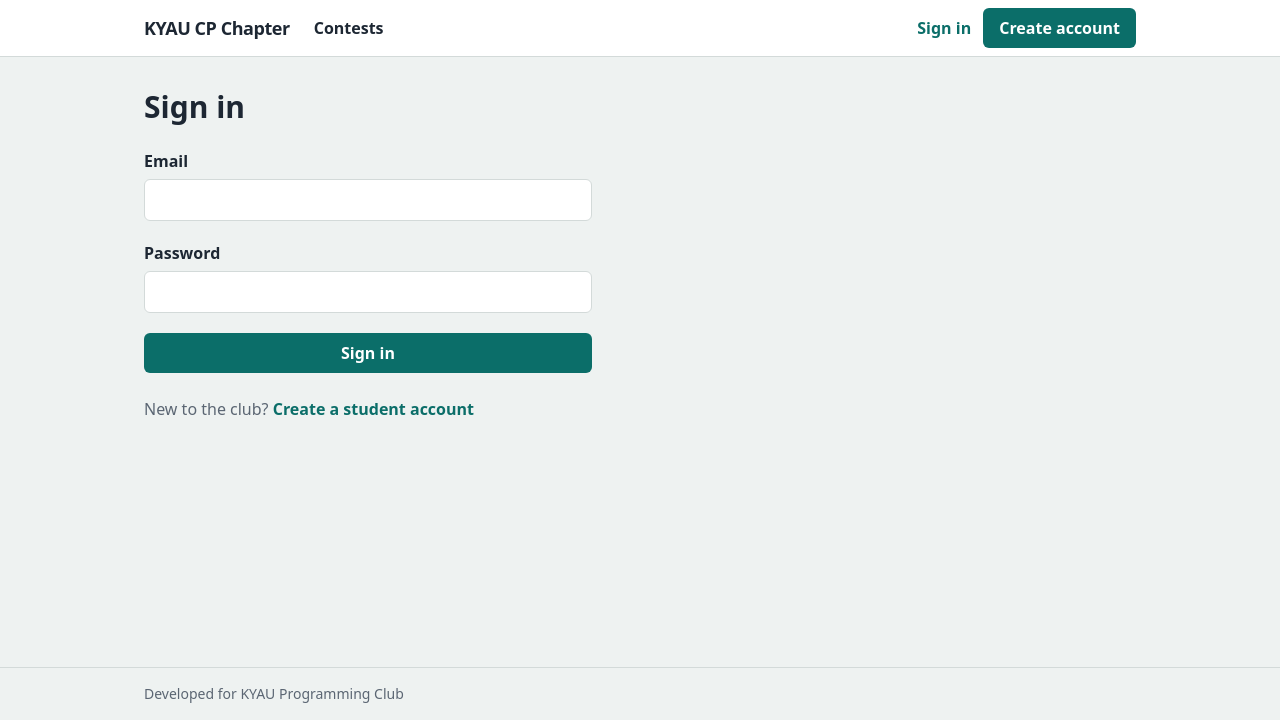
Test case: protected routes › sends anonymous visitors to sign in and returns them afterwards
The image size is (1280, 720).
Expected: the heading "Sign in" is shown, x1=144 y1=86 x2=245 y2=127
Type "anika@students.kyau.test" into the field labelled "Email" at (368, 200), box x1=144 y1=179 x2=592 y2=221
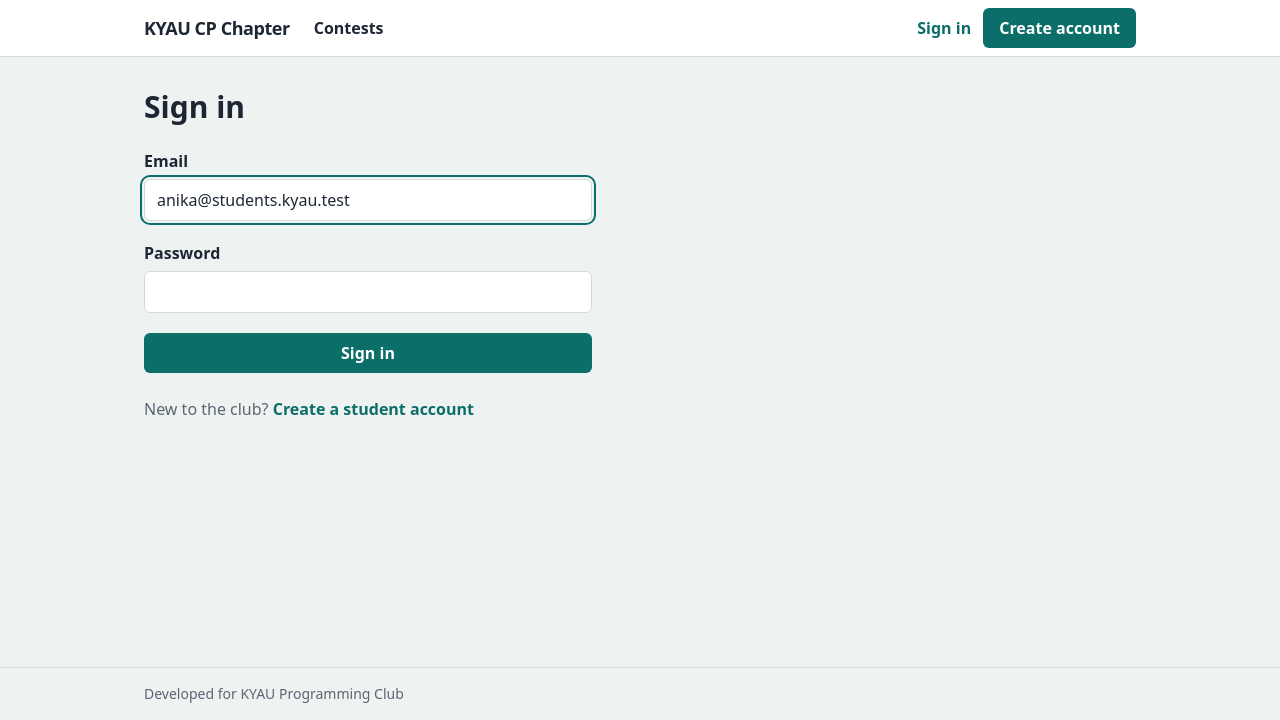
Type "Str0ng!Passw0rd" into the password field labelled "Password" at (368, 292), box x1=144 y1=271 x2=592 y2=313
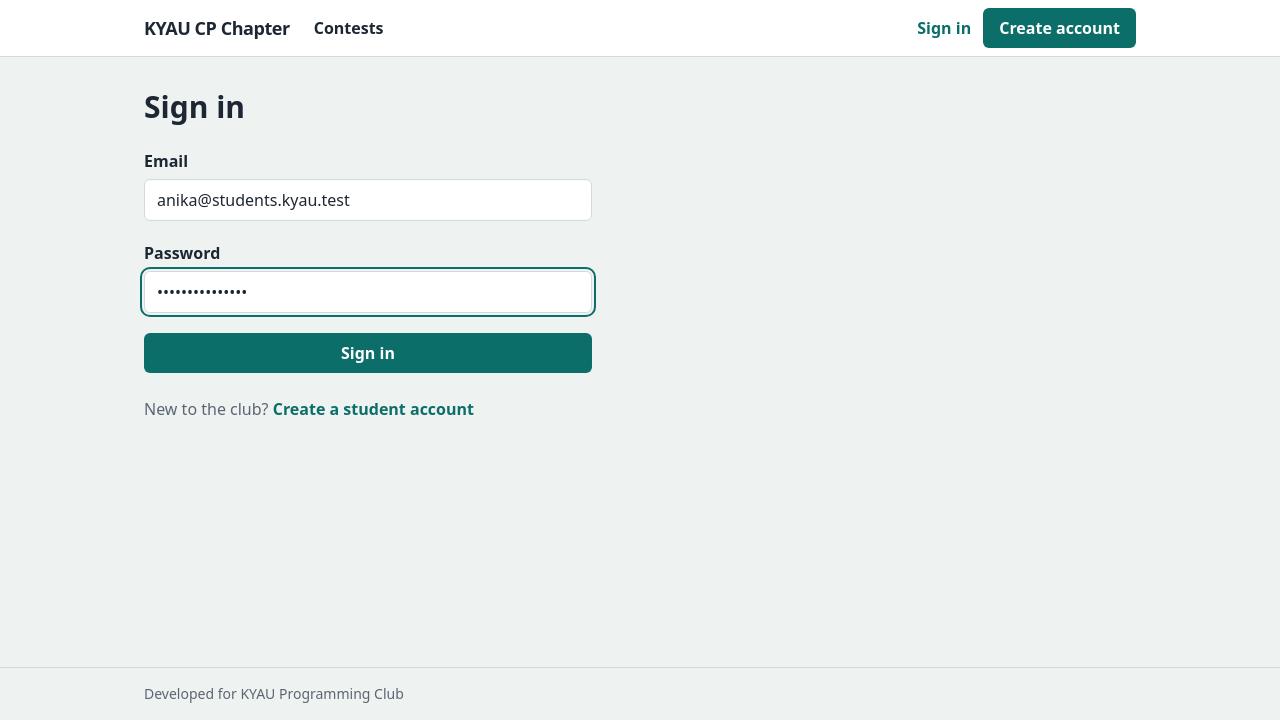
Click the button "Sign in" at (368, 353), box x1=144 y1=333 x2=592 y2=373
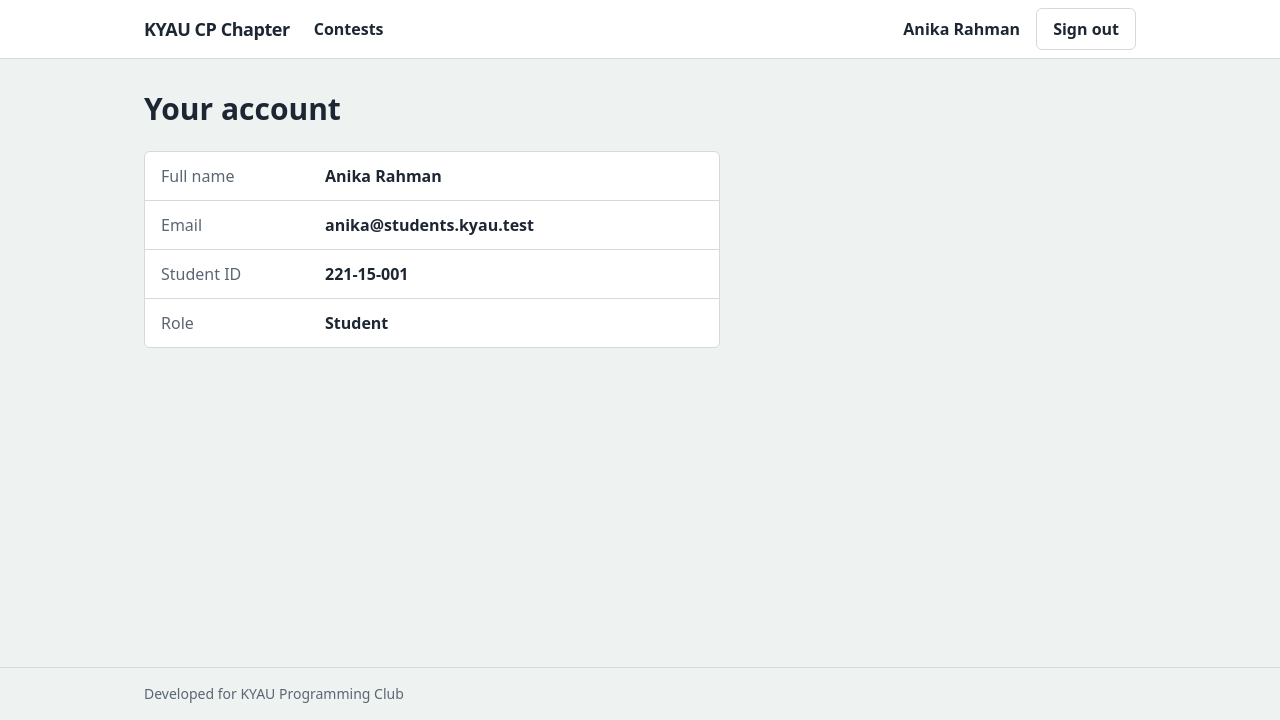
Expected: the heading "Your account" is shown, x1=144 y1=88 x2=341 y2=129
Expected: the text "221-15-001" is shown, x1=325 y1=263 x2=408 y2=285
